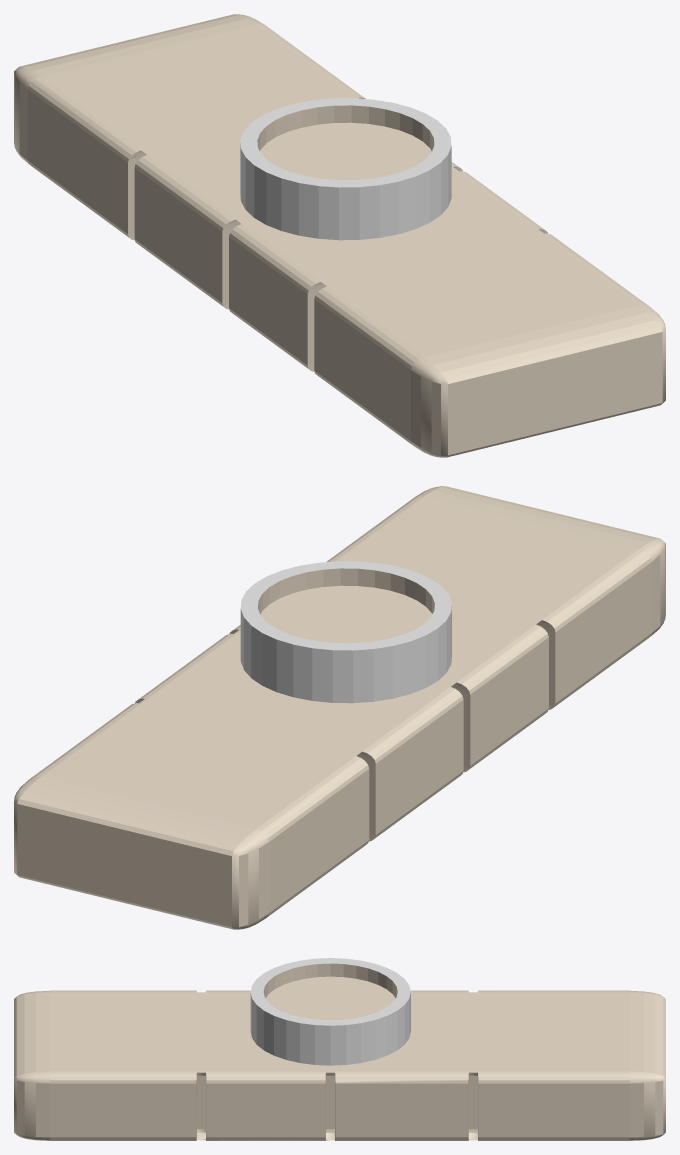
The model's file is button1a.glb.
3 renders of one model, top to bottom at view 1: azimuth 30°, elevation 25°; view 2: azimuth 150°, elevation 25°; view 3: azimuth 270°, elevation 25°, orthographic. The views are drawn at different scales.
Visible parts, largest first — view 1: Cube.002, Cylinder; view 2: Cube.002, Cylinder; view 3: Cube.002, Cylinder.
Boxes of the visible parts, x1,y1,x2,y2 form: Cube.002: [14, 14, 665, 457]; Cylinder: [240, 98, 451, 240]; Cube.002: [14, 486, 665, 929]; Cylinder: [240, 561, 451, 703]; Cube.002: [14, 990, 665, 1140]; Cylinder: [250, 958, 410, 1065].
Size of the model in its own units: 1.38 by 0.7809 by 4.27.
